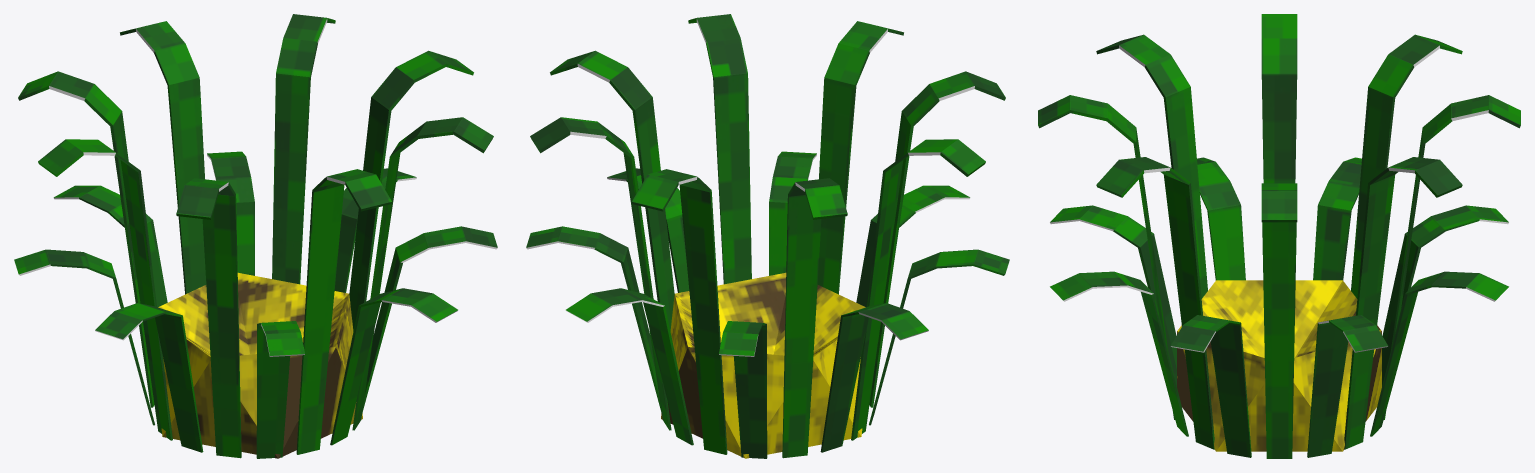
File: Plant6.fbx
The picture shows the model from 3 angles, left to right: view 1: azimuth 30°, elevation 25°; view 2: azimuth 150°, elevation 25°; view 3: azimuth 270°, elevation 25°; orthographic projection.
Visible parts, largest first — view 1: Leafs, Body; view 2: Leafs, Body; view 3: Leafs, Body.
Boxes of the visible parts, bbox=[...] form: Leafs: bbox=[14, 14, 497, 458]; Body: bbox=[158, 272, 362, 458]; Leafs: bbox=[526, 14, 1009, 458]; Body: bbox=[661, 272, 865, 458]; Leafs: bbox=[1038, 14, 1520, 458]; Body: bbox=[1177, 280, 1381, 451].
Bounding box in the file's own units: 1 × 0.7153 × 1.
1 material, 1 textured.
